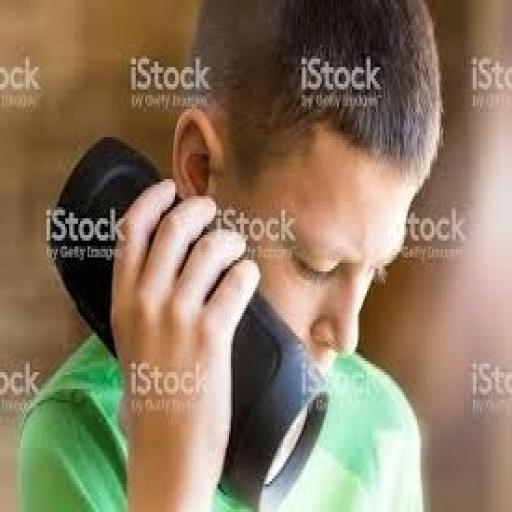listening_to_music: (15, 0, 445, 509)
